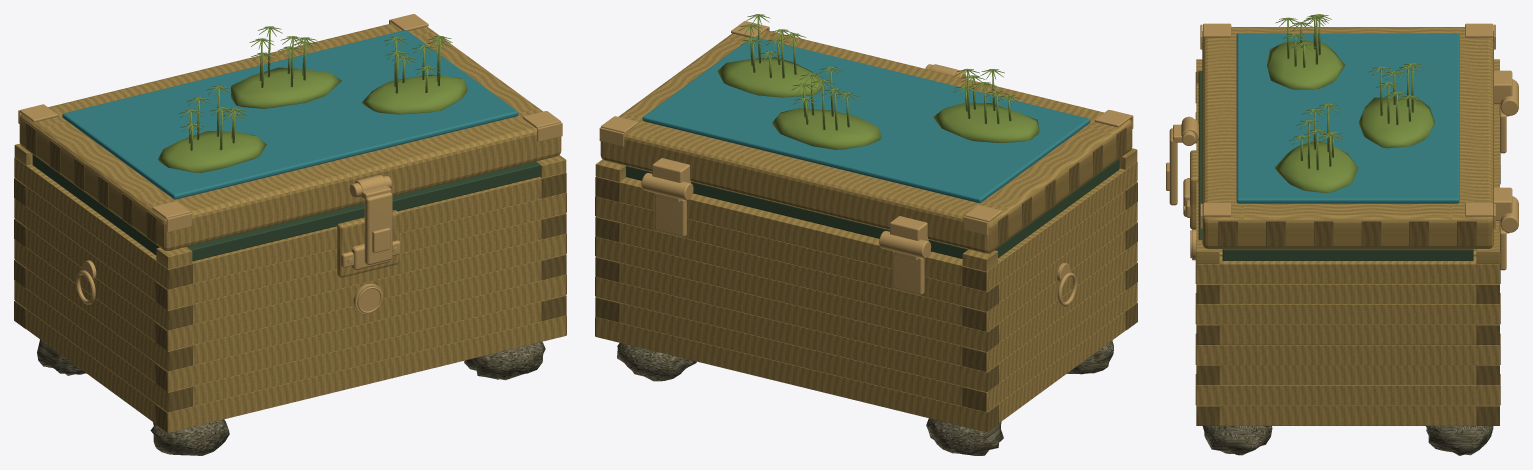
Rendered from south-sudan.glb.
The picture shows the model from 3 angles, left to right: view 1: azimuth 30°, elevation 25°; view 2: azimuth 150°, elevation 25°; view 3: azimuth 270°, elevation 25°; orthographic projection.
Parts seen in each view (by area): view 1: Lid / polished slab, Wetland / water, Silt / front course 0, Silt / front course 2, Silt / front course 4, Silt / front course 1, Silt / front course 6, Silt / front course 3, Silt / front course 5, Silt / front course 7, Mineral seam / long, Silt / side course 7 (+18 smaller); view 2: Wetland / water, Lid / polished slab, Silt / rear course 4, Silt / rear course 0, Silt / rear course 2, Silt / rear course 7, Silt / rear course 5, Silt / rear course 1, Silt / rear course 3, Silt / rear course 6, Silt / side course 7, Silt / side course 1 (+21 smaller); view 3: Wetland / water, Lid / polished slab, Silt / side course 7.001, Silt / side course 1.001, Silt / side course 5.001, Silt / side course 3.001, Silt / side course 0.001, Silt / side course 2.001, Silt / side course 4.001, Silt / side course 6.001, Mineral seam / side.001, Wetland / bank 1 (+32 smaller).
Boxes of the visible parts, x1=… form: Lid / polished slab: x1=19, y1=23, x2=561, y2=250; Wetland / water: x1=62, y1=30, x2=518, y2=199; Silt / front course 0: x1=156, y1=315, x2=566, y2=432; Silt / front course 2: x1=156, y1=274, x2=566, y2=391; Silt / front course 4: x1=156, y1=233, x2=566, y2=350; Silt / front course 1: x1=192, y1=301, x2=541, y2=406; Silt / front course 6: x1=156, y1=193, x2=566, y2=309; Silt / front course 3: x1=192, y1=260, x2=541, y2=365; Silt / front course 5: x1=192, y1=219, x2=541, y2=324; Silt / front course 7: x1=192, y1=177, x2=541, y2=283; Mineral seam / long: x1=187, y1=161, x2=540, y2=261; Silt / side course 7: x1=14, y1=157, x2=192, y2=289; Wetland / water: x1=642, y1=37, x2=1090, y2=203; Lid / polished slab: x1=600, y1=30, x2=1132, y2=253; Silt / rear course 4: x1=595, y1=236, x2=997, y2=351; Silt / rear course 0: x1=595, y1=317, x2=997, y2=432; Silt / rear course 2: x1=595, y1=277, x2=997, y2=391; Silt / rear course 7: x1=620, y1=177, x2=962, y2=285; Silt / rear course 5: x1=620, y1=222, x2=962, y2=325; Silt / rear course 1: x1=620, y1=302, x2=962, y2=405; Silt / rear course 3: x1=620, y1=262, x2=962, y2=365; Silt / rear course 6: x1=595, y1=196, x2=997, y2=311; Silt / side course 7: x1=963, y1=162, x2=1137, y2=291; Silt / side course 1: x1=963, y1=282, x2=1137, y2=411; Wetland / water: x1=1236, y1=33, x2=1459, y2=203; Lid / polished slab: x1=1202, y1=27, x2=1493, y2=248; Silt / side course 7.001: x1=1196, y1=256, x2=1499, y2=283; Silt / side course 1.001: x1=1196, y1=385, x2=1499, y2=405; Silt / side course 5.001: x1=1196, y1=304, x2=1499, y2=324; Silt / side course 3.001: x1=1196, y1=345, x2=1499, y2=365; Silt / side course 0.001: x1=1219, y1=405, x2=1476, y2=425; Silt / side course 2.001: x1=1219, y1=365, x2=1476, y2=385; Silt / side course 4.001: x1=1219, y1=324, x2=1476, y2=344; Silt / side course 6.001: x1=1219, y1=284, x2=1476, y2=304; Mineral seam / side.001: x1=1222, y1=249, x2=1473, y2=260; Wetland / bank 1: x1=1358, y1=97, x2=1434, y2=148.
Size of the model in its own units: 3.79 by 2.86 by 2.88.
8 materials, 3 textured.
